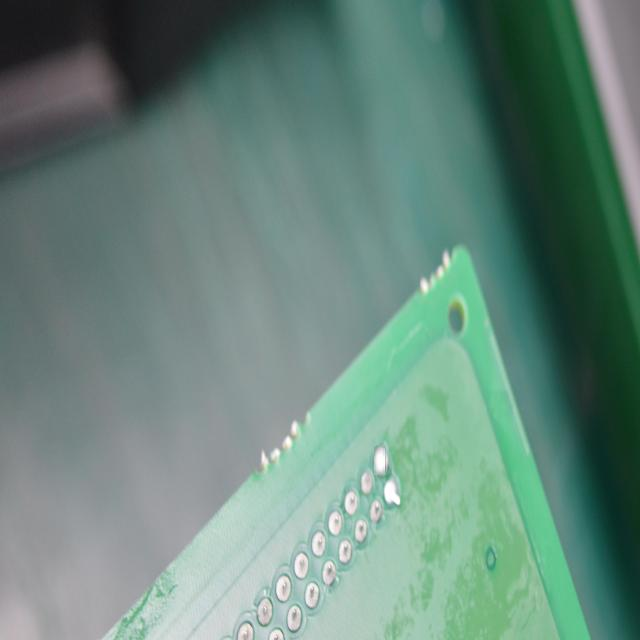redundant: (375, 445, 384, 475)
